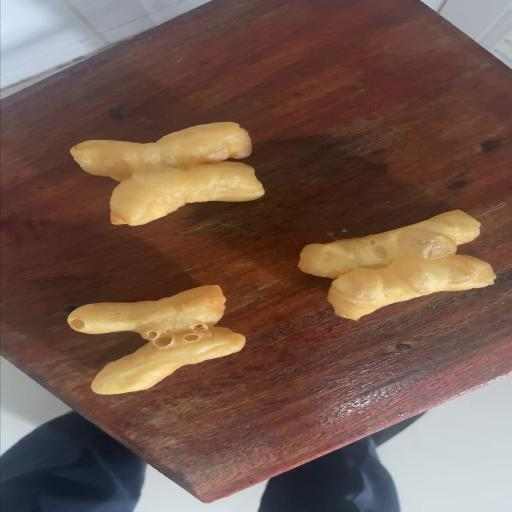street_golden_defect: (67, 285, 245, 394), (298, 210, 480, 278), (328, 255, 495, 320)
street_golden_good: (70, 122, 265, 226)
